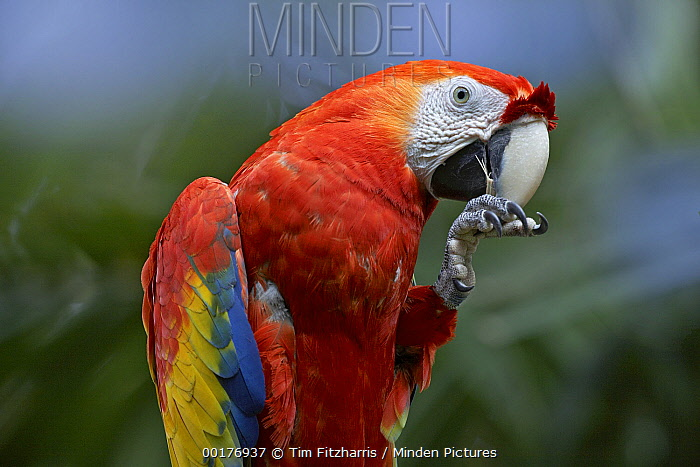Lapa: (108, 38, 568, 467)
